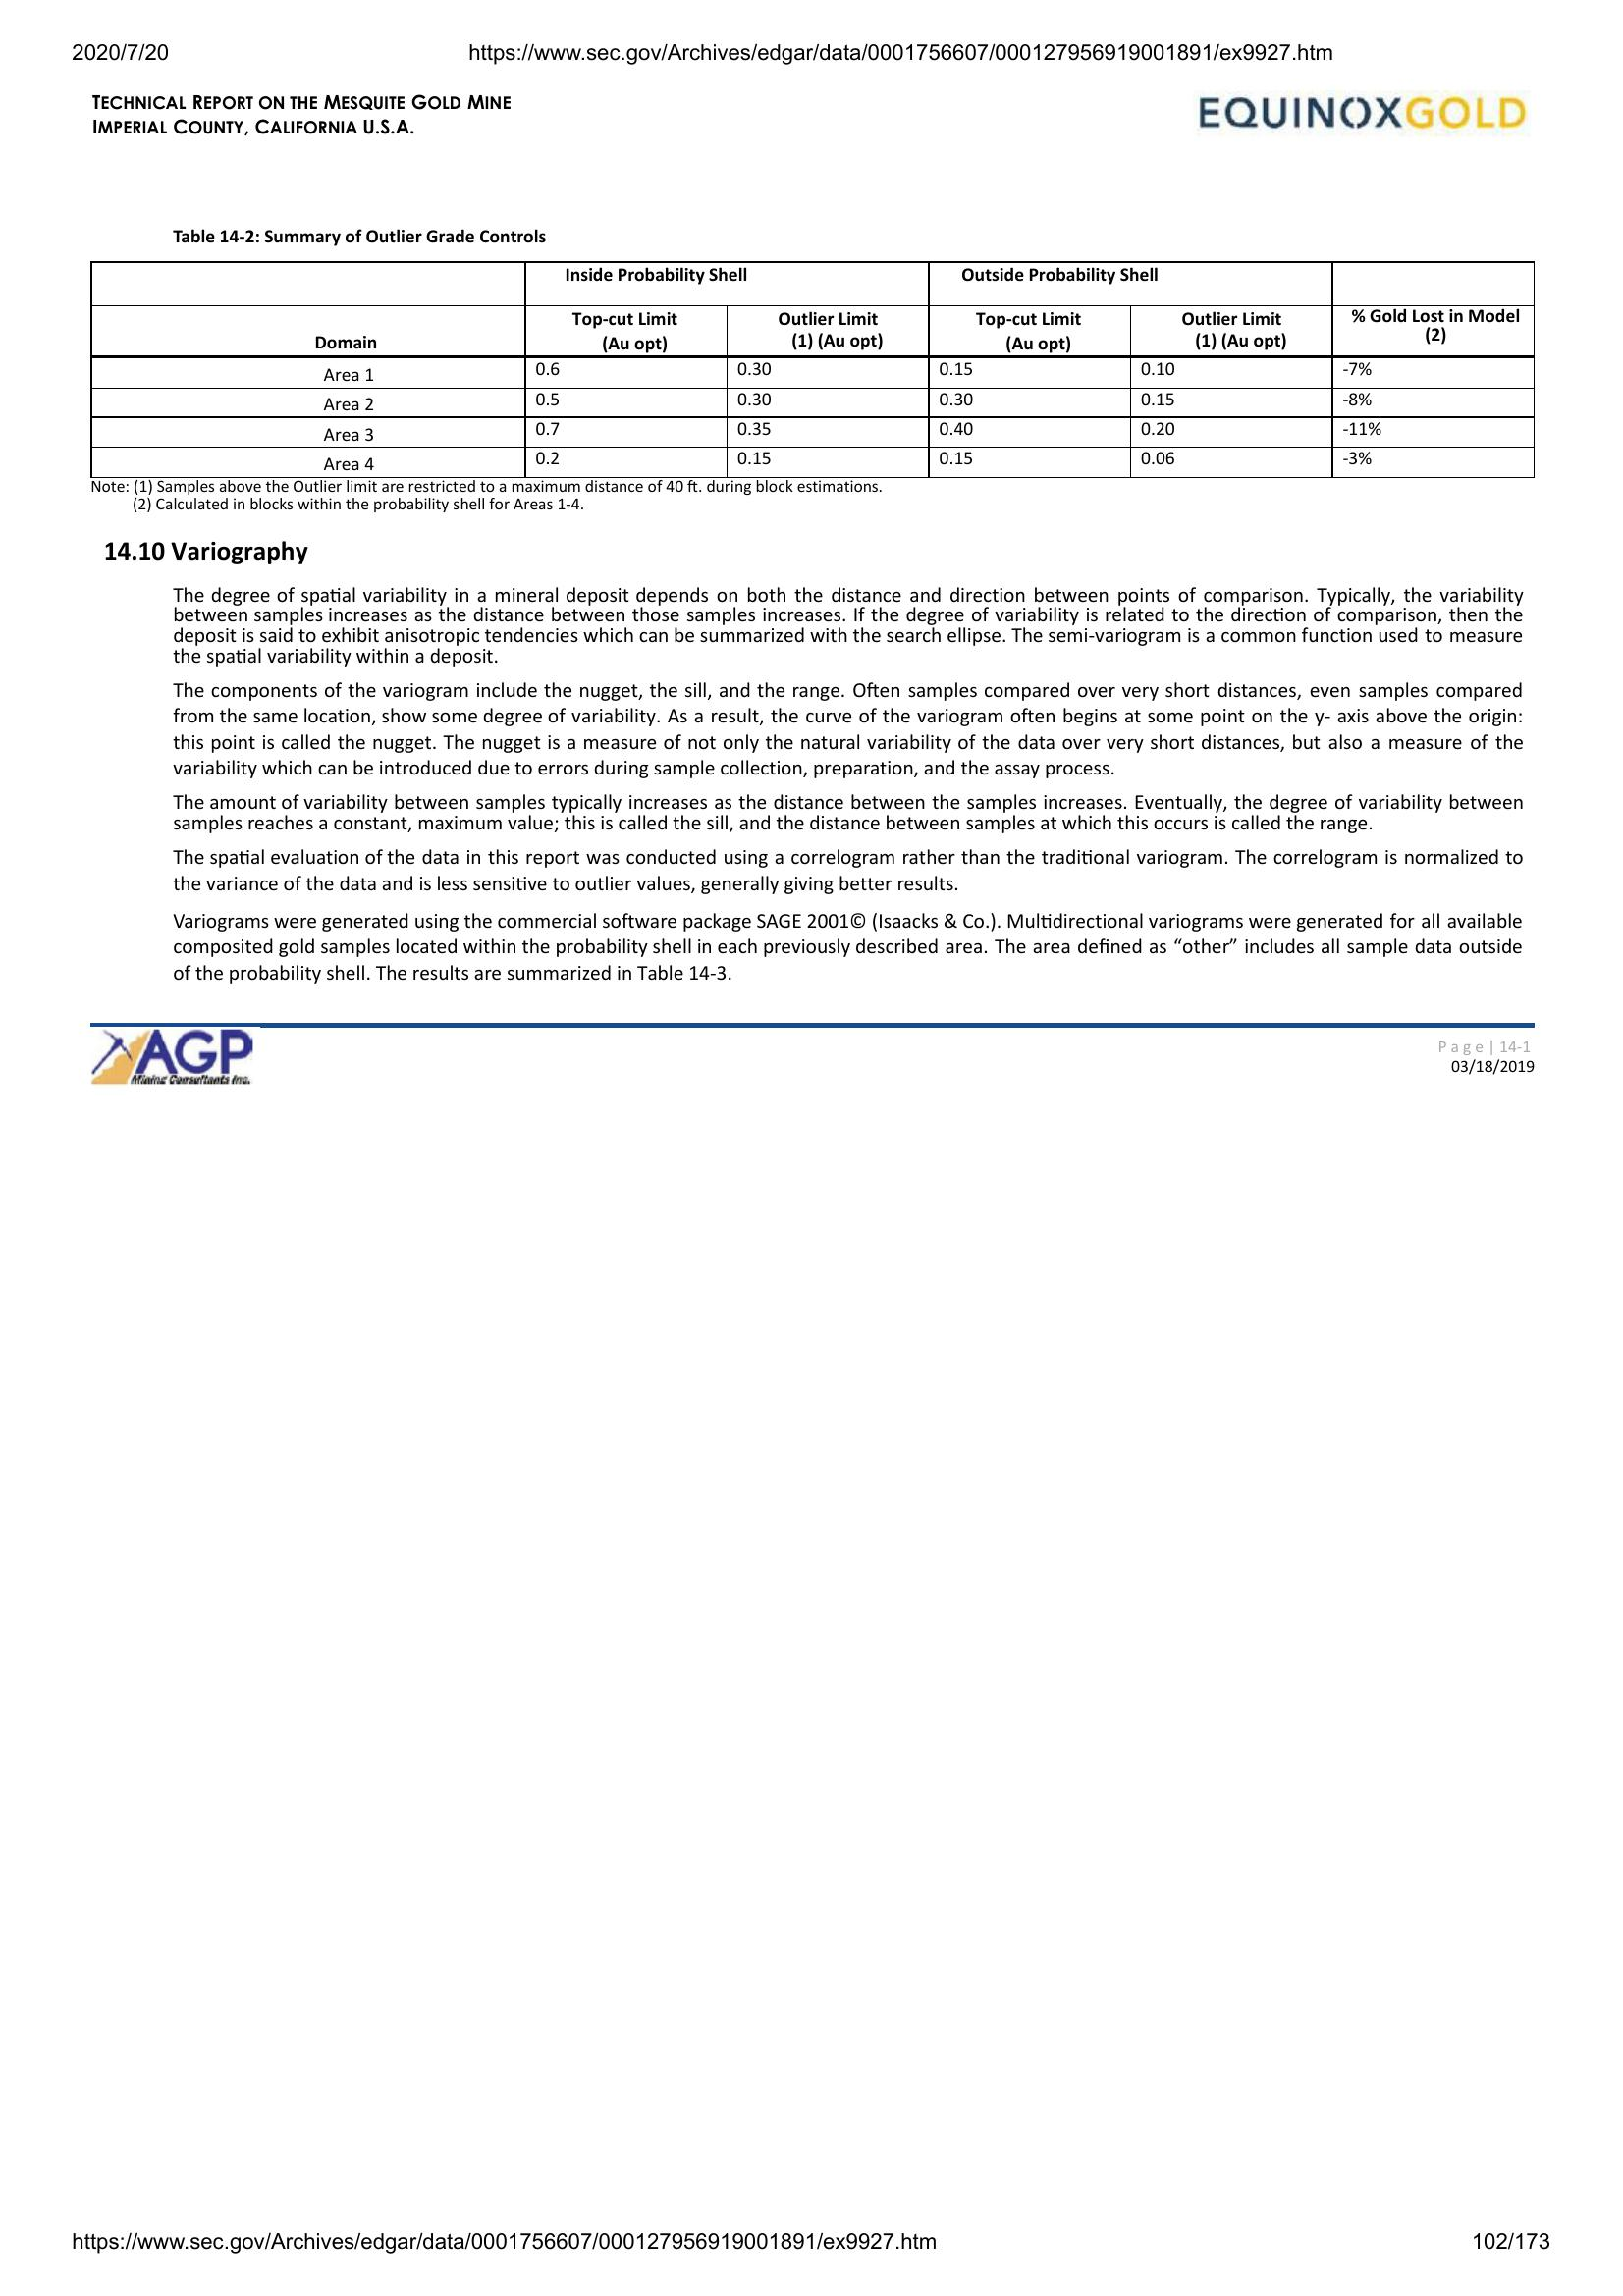table: (83, 255, 1542, 481)
